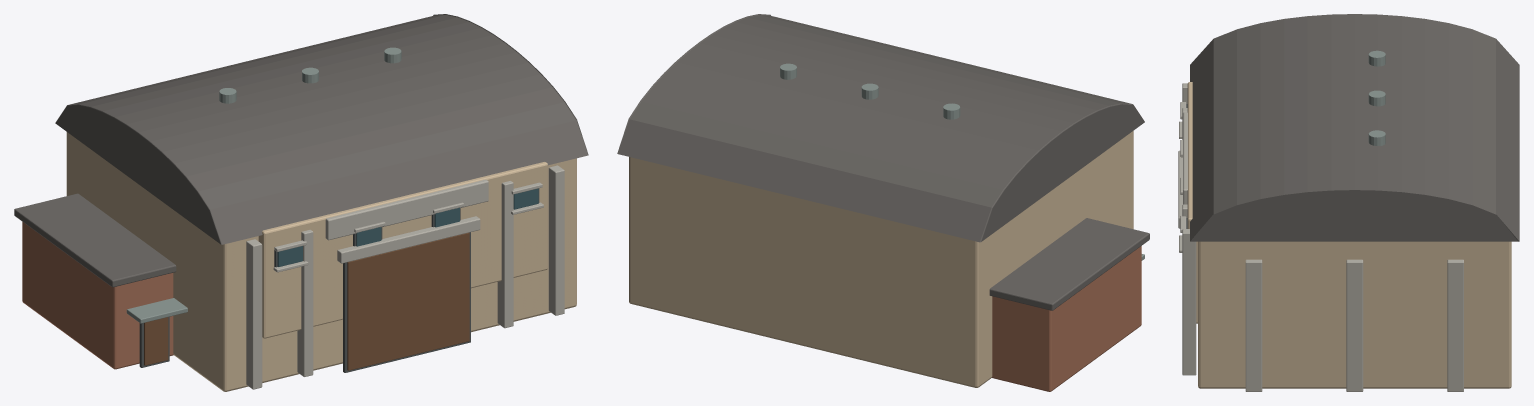
The model's file is StudioSoundStage_01.fbx.
3 renders of one model, left to right at view 1: azimuth 30°, elevation 25°; view 2: azimuth 150°, elevation 25°; view 3: azimuth 270°, elevation 25°, orthographic.
Visible parts, largest first — view 1: Stage_BarrelRoof, Stage_MainVolume, Stage_FrontHeadwall, Stage_LoadingDoor, Stage_ServiceWing, Stage_ServiceRoof, Stage_SignBand, Stage_FrontPilaster_-7.7, Stage_FrontPilaster_7.7, Stage_LoadingHeader, Stage_FrontPilaster_5.1, Stage_FrontPilaster_-5.1 (+3 smaller); view 2: Stage_BarrelRoof, Stage_MainVolume, Stage_ServiceWing, Stage_ServiceRoof; view 3: Stage_BarrelRoof, Stage_MainVolume, Stage_SideButtress_-4.5, Stage_SideButtress_0, Stage_SideButtress_4.5, Stage_FrontPilaster_7.7, Stage_FrontHeadwall, Stage_SignBand, Stage_LoadingHeader.
Part boxes in pixels (x1,y1,x2,y2): Stage_BarrelRoof: (55, 14, 588, 244); Stage_MainVolume: (66, 132, 576, 391); Stage_FrontHeadwall: (258, 162, 547, 338); Stage_LoadingDoor: (347, 232, 469, 370); Stage_ServiceWing: (22, 222, 173, 369); Stage_ServiceRoof: (14, 193, 176, 287); Stage_SignBand: (325, 179, 488, 240); Stage_FrontPilaster_-7.7: (246, 239, 262, 389); Stage_FrontPilaster_7.7: (548, 165, 564, 315); Stage_LoadingHeader: (337, 216, 480, 263); Stage_FrontPilaster_5.1: (497, 181, 513, 328); Stage_FrontPilaster_-5.1: (297, 229, 313, 376); Stage_BarrelRoof: (617, 14, 1144, 242); Stage_MainVolume: (629, 131, 1133, 387); Stage_ServiceWing: (992, 246, 1141, 391); Stage_ServiceRoof: (989, 218, 1149, 310); Stage_BarrelRoof: (1190, 14, 1519, 241); Stage_MainVolume: (1198, 241, 1511, 388); Stage_SideButtress_-4.5: (1245, 259, 1262, 391); Stage_SideButtress_0: (1346, 259, 1363, 391); Stage_SideButtress_4.5: (1447, 259, 1463, 391); Stage_FrontPilaster_7.7: (1182, 229, 1196, 375); Stage_FrontHeadwall: (1187, 82, 1197, 323); Stage_SignBand: (1183, 112, 1187, 204); Stage_LoadingHeader: (1178, 150, 1182, 228).
Bounding box in the file's own units: 21.6 × 10.47 × 15.22.
